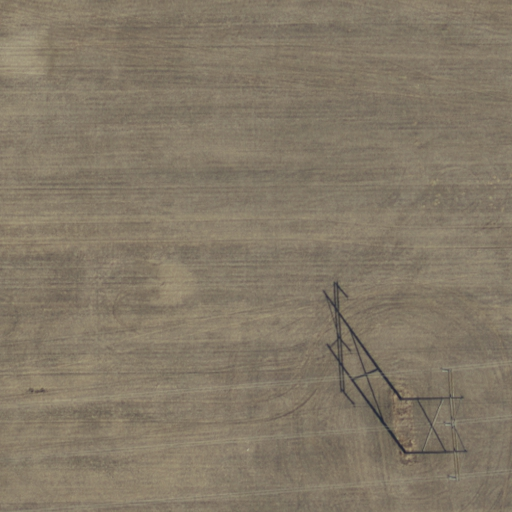TT: (389, 362, 477, 486)
